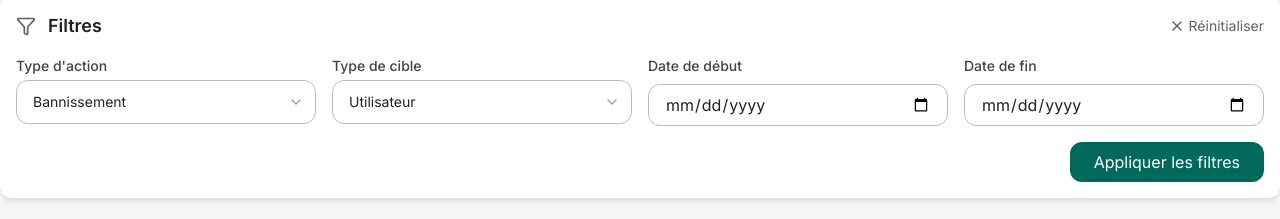
Scenario: LogFilters - logique metier › reinitialise immediatement les filtres (sans attendre Appliquer)
The width and height of the screenshot is (1280, 219).
Step 1. Click the button "Réinitialiser" → click(1216, 26), box [1168,16,1264,36]
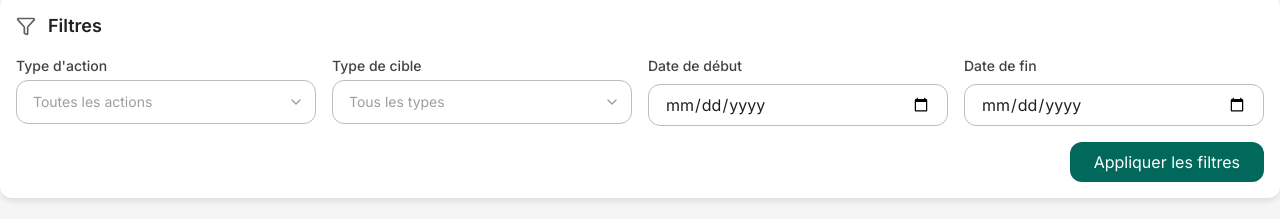
Expected: the button "Réinitialiser" is gone
